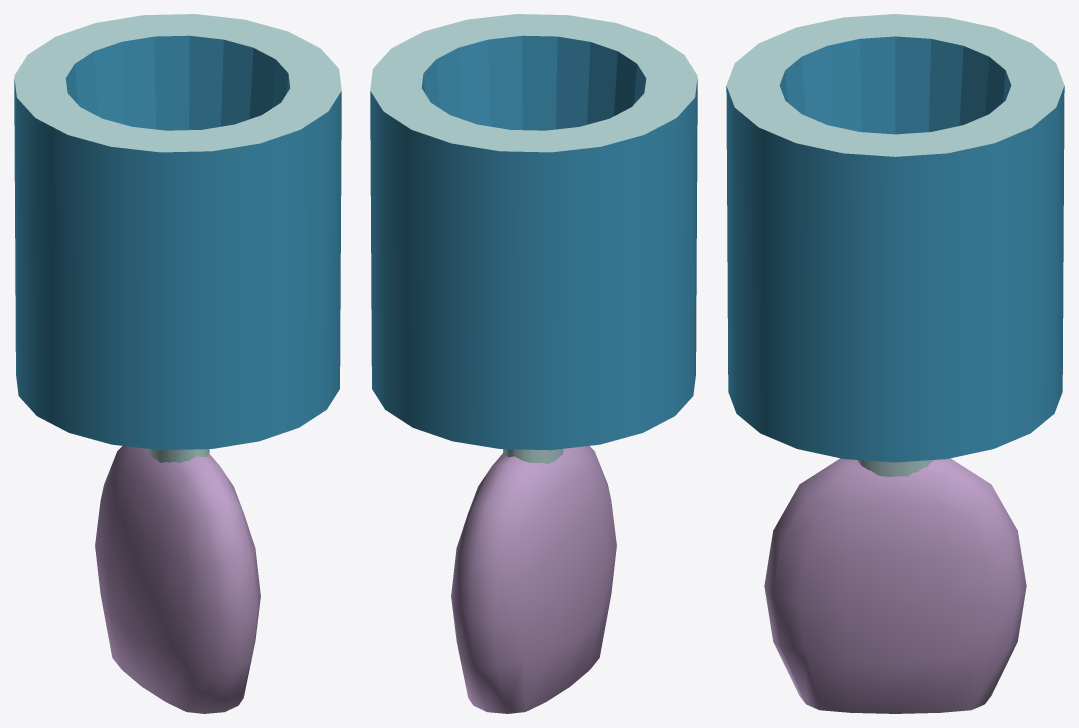
Rendered from TABLELAMP2.fbx.
3 views of the same model, side by side, from view 1: azimuth 30°, elevation 25°; view 2: azimuth 150°, elevation 25°; view 3: azimuth 270°, elevation 25° (orthographic). The views are drawn at different scales.
Visible parts, largest first — view 1: LAMP2; view 2: LAMP2; view 3: LAMP2.
Boxes of the visible parts, bbox=[...] form: LAMP2: bbox=[14, 14, 341, 713]; LAMP2: bbox=[370, 14, 697, 713]; LAMP2: bbox=[726, 14, 1064, 713].
Bounding box in the file's own units: 2 × 3.98 × 2.
